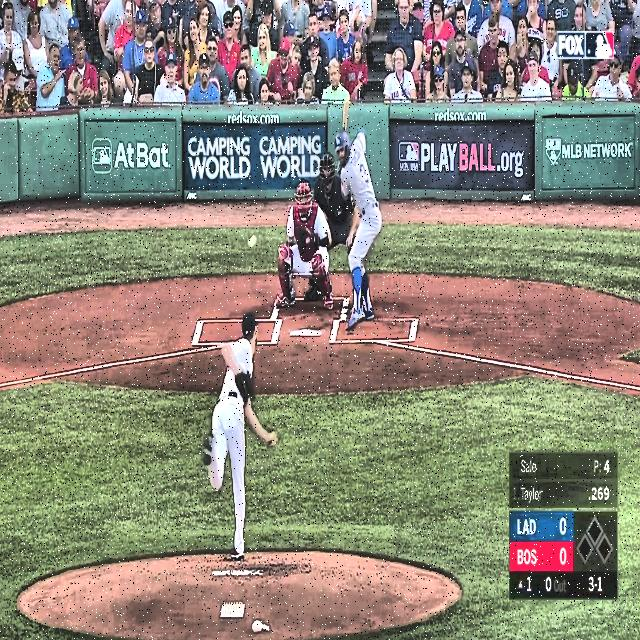baseball: (248, 234, 256, 248)
